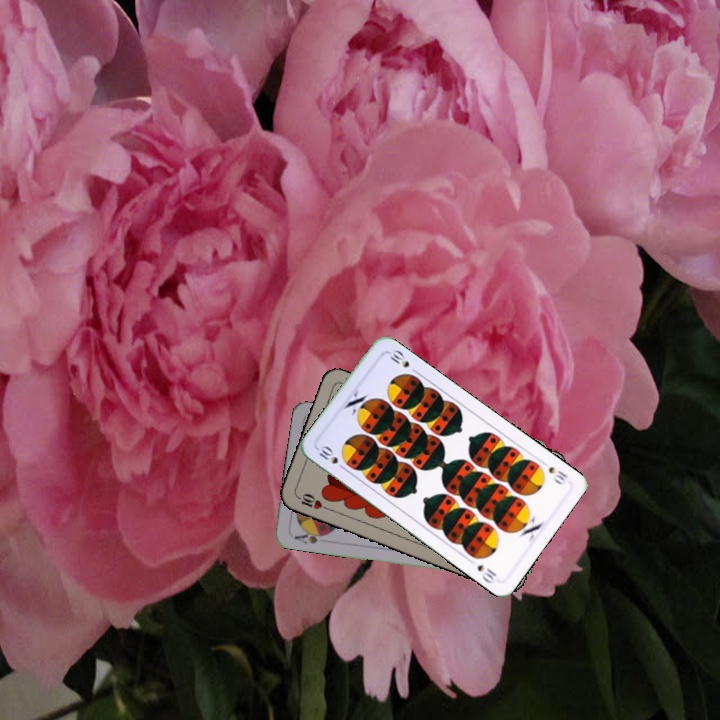H10: (293, 489, 332, 513)
S10: (313, 441, 348, 473), (544, 462, 570, 488)
SA: (290, 526, 330, 547)
